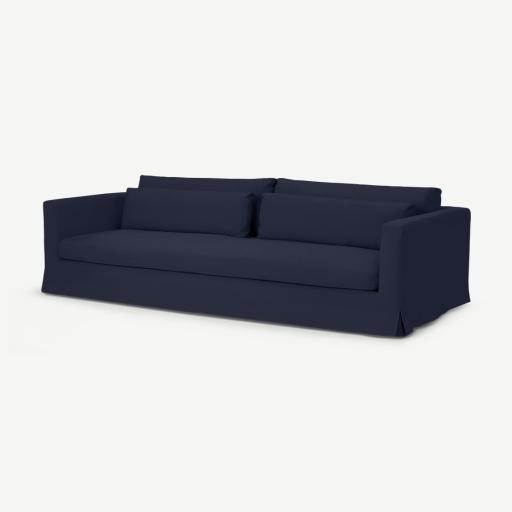back_cushion: (258, 193, 412, 248), (121, 188, 255, 238)
base: (45, 259, 399, 335)
left_arm: (375, 207, 470, 335)
right_arm: (42, 193, 125, 292)
seat_cushion: (57, 228, 379, 290)
two-seater: (0, 0, 511, 512)
